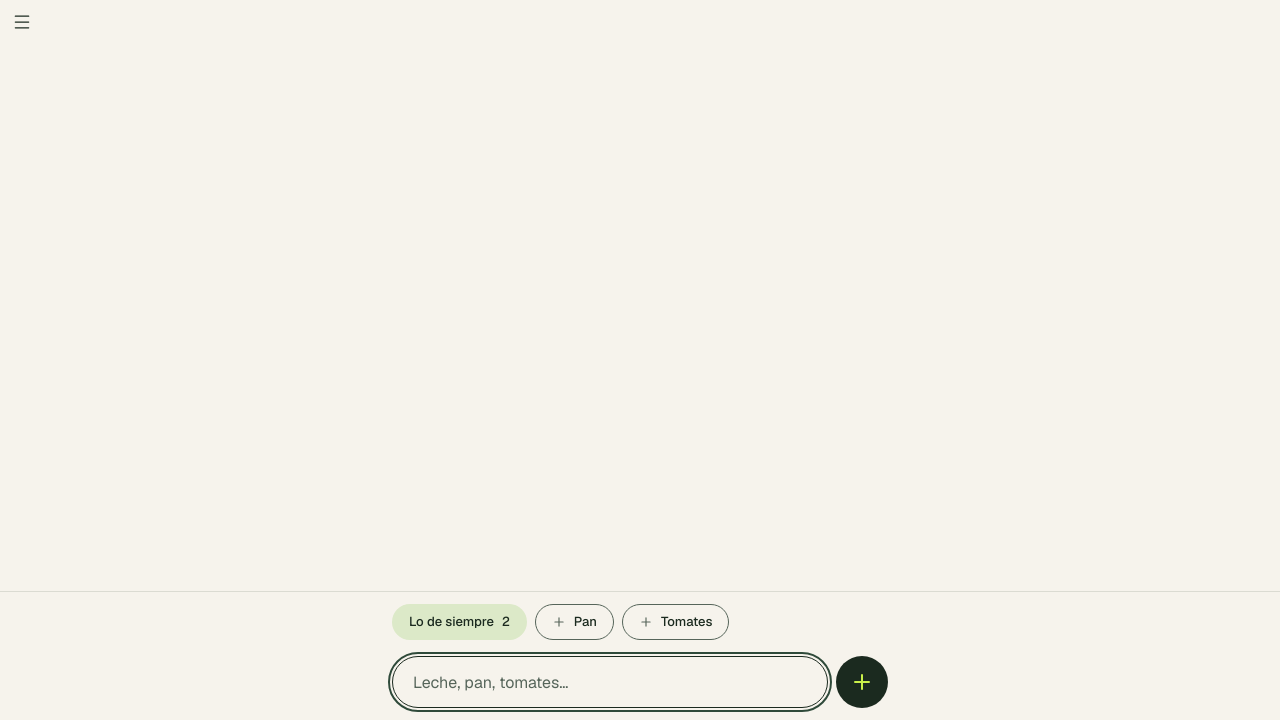
Test case: Compras anteriores › closed without adding, goes back to the menu, on that trip
This screenshot has width=1280, height=720.
Click the button named "Abrir menú": (22, 22) [0, 0, 44, 44]
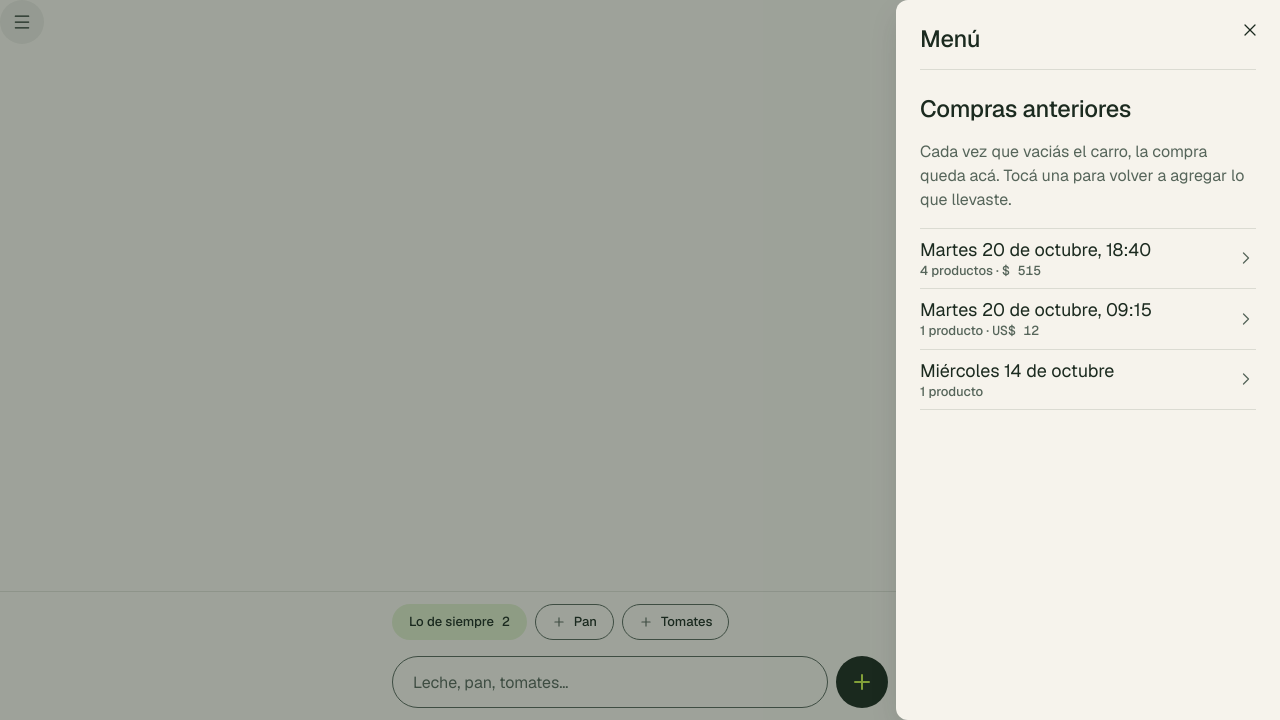
Click the button "Martes 20 de octubre, 09:15 1 producto · US$ 12": (1088, 319) [912, 289, 1264, 349]
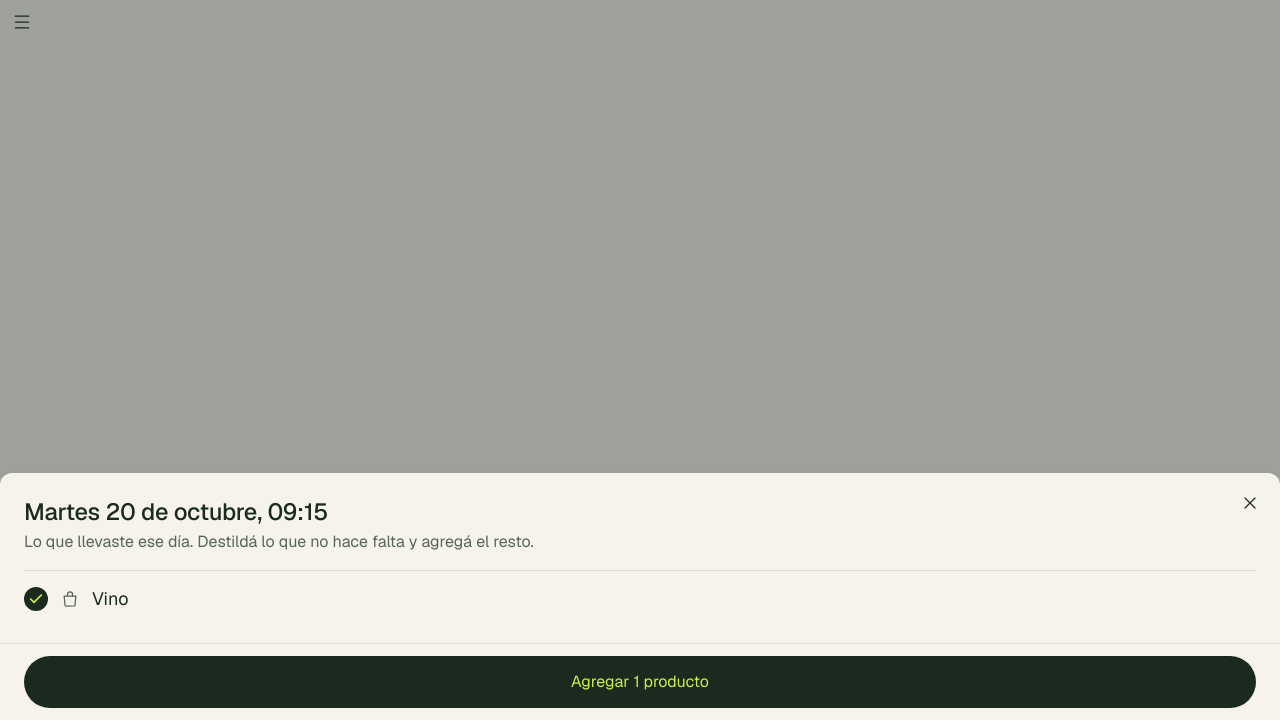
Press Escape in the dialog, box [0, 473, 1279, 719]
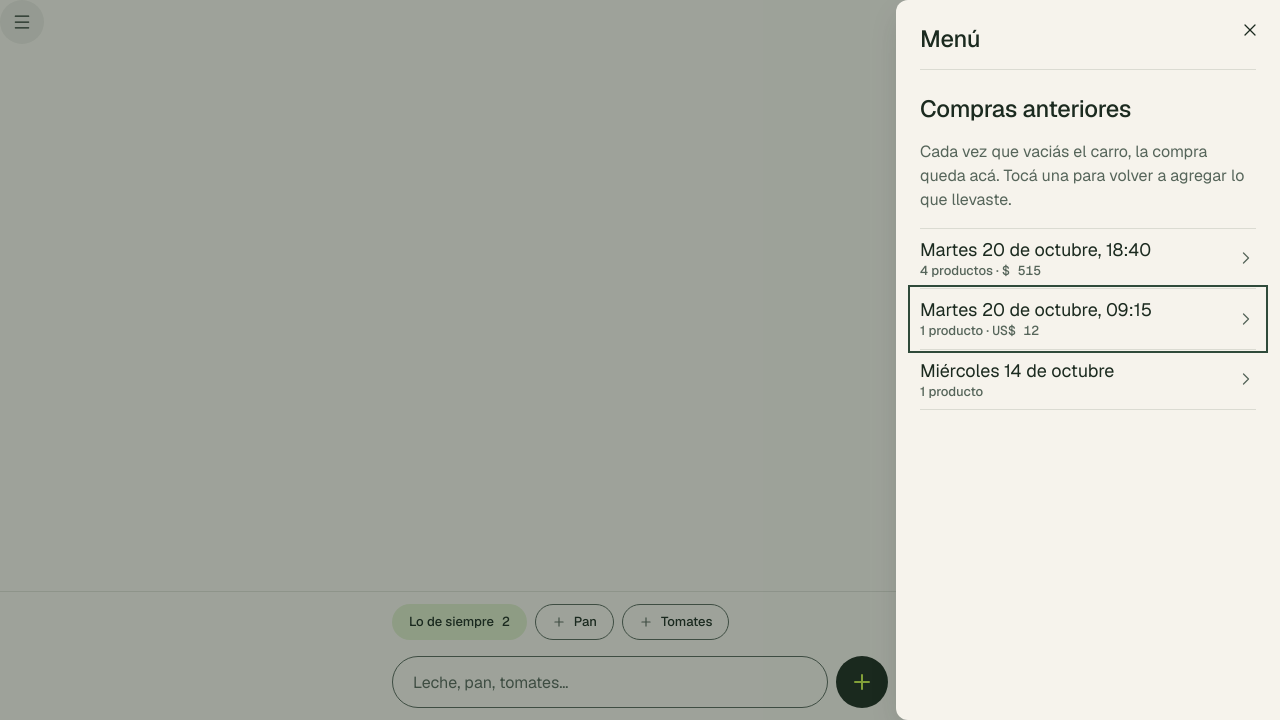
Now the dialog "Menú" is shown, box [896, 0, 1279, 719]
